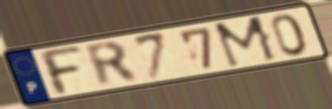0: (270, 13, 310, 57)
7: (132, 29, 169, 83), (176, 25, 213, 72)
F: (35, 44, 86, 97)
M: (210, 13, 281, 70)
R: (82, 40, 144, 90)
